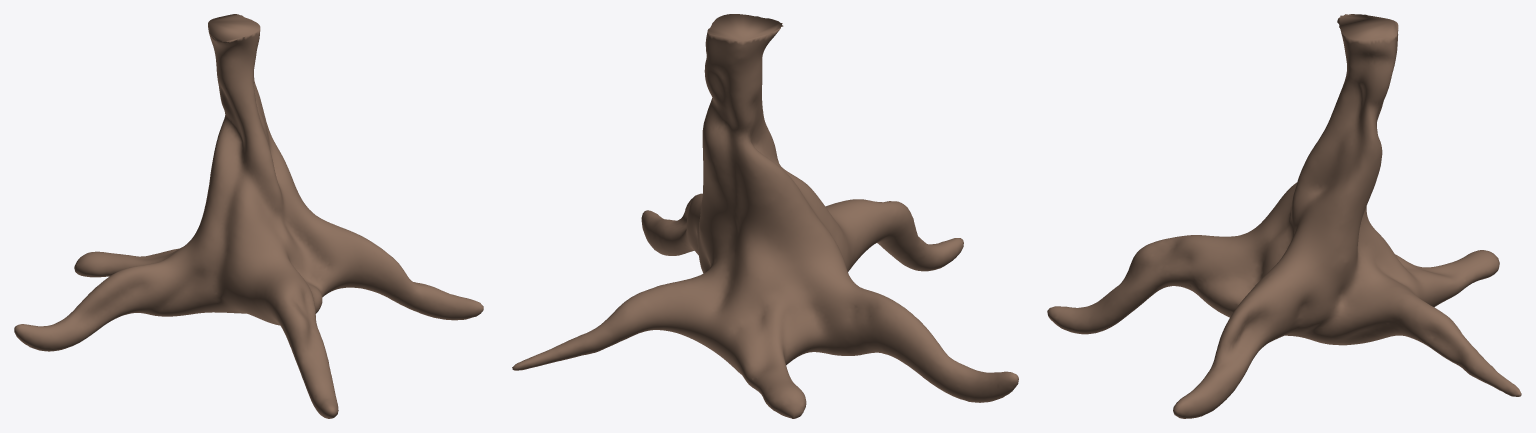
File: treeThirdStage.glb
The picture shows the model from 3 angles, left to right: view 1: azimuth 30°, elevation 25°; view 2: azimuth 150°, elevation 25°; view 3: azimuth 270°, elevation 25°; orthographic projection. The views are drawn at different scales.
Visible parts, largest first — view 1: Cube.010; view 2: Cube.010; view 3: Cube.010.
Boxes of the visible parts, x1,y1,x2,y2 form: Cube.010: (14,14,483,418); Cube.010: (512,14,1018,418); Cube.010: (1047,14,1521,418).
Size of the model in its own units: 7.68 by 5.38 by 7.15.
